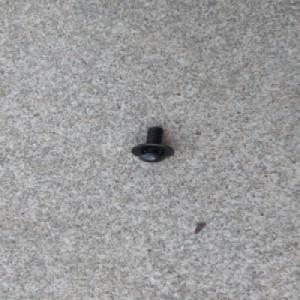BoltWasher: (130, 125, 175, 163)
